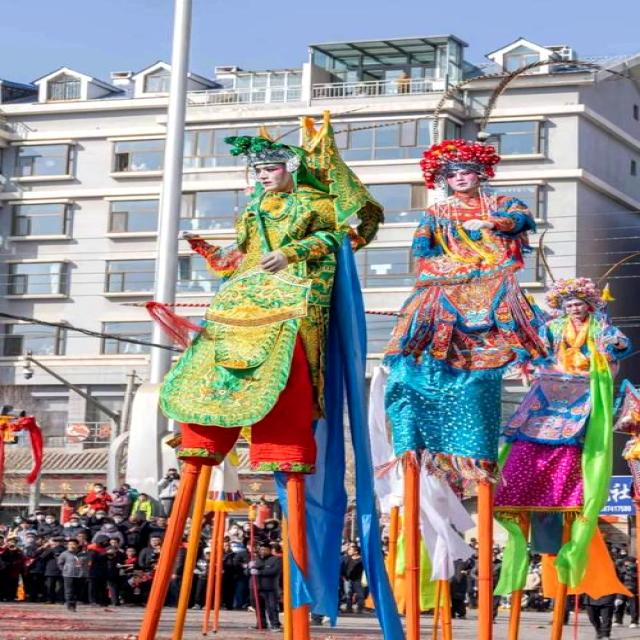Reeves-s Pheasant: (477, 61, 544, 139), (435, 79, 470, 131)
